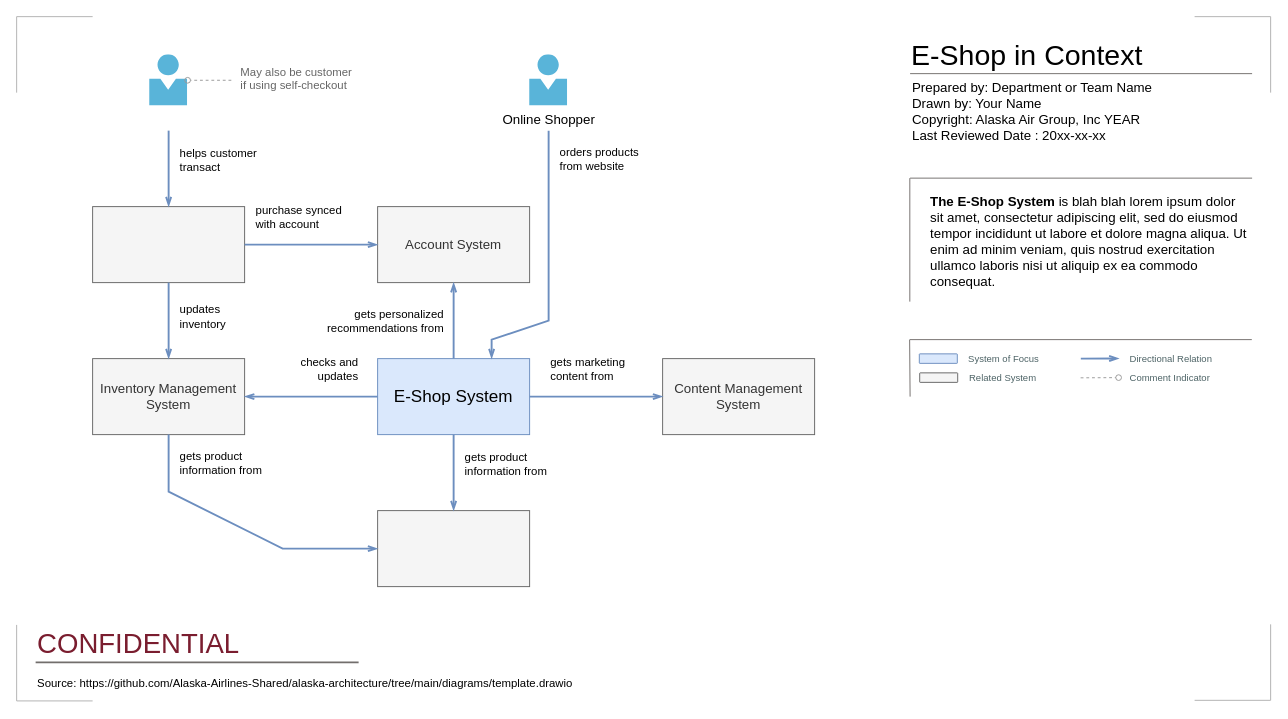
Some shapes in this 1288 by 719 pixel diagram are drawn without their labels. Each missing label, with the centre of its shape:
Point of Sale: point (168, 244)
Product Catalog: point (453, 548)
Store Employee: point (168, 79)
